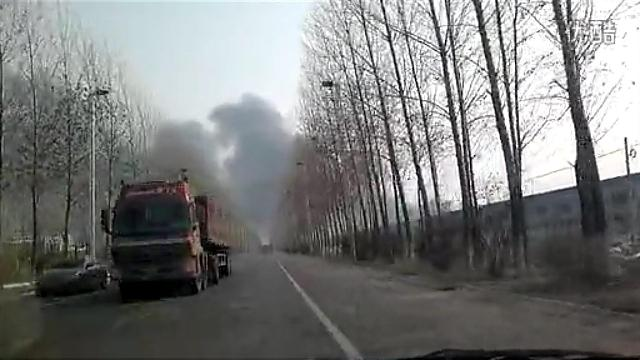smoke: (212, 90, 302, 220), (149, 119, 207, 177)
